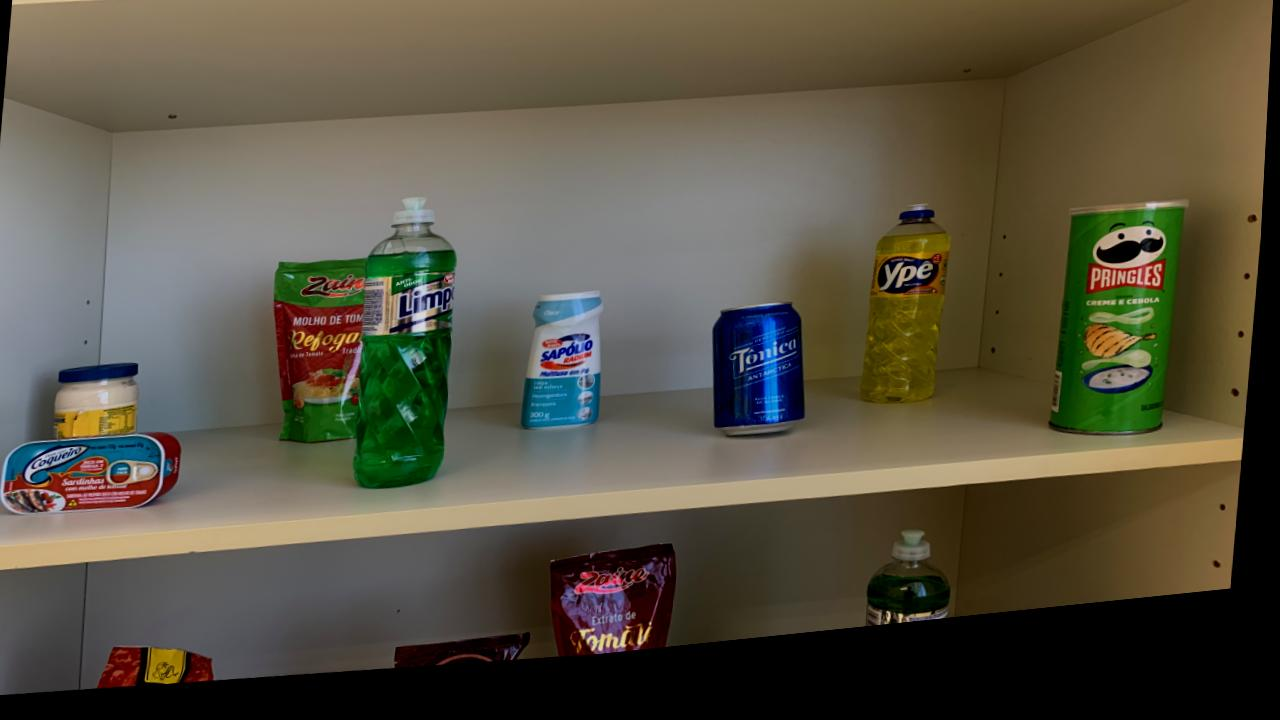Cleaner-Cleanup_Items: (526, 305, 607, 442)
Coffee-Pantry_Items: (402, 645, 538, 678)
Detergent-Cleanup_Items: (359, 207, 460, 497), (866, 226, 955, 424), (873, 550, 958, 646)
Mayonnaise-Pantry_Items: (58, 366, 144, 440)
Pringles-Snacks: (1055, 227, 1191, 460)
Tomato_Sauce-Pantry_Items: (277, 267, 370, 450), (558, 560, 684, 670), (104, 649, 222, 691)
Tonic-Drinks: (716, 320, 811, 452)
Tuna_Can-Pantry_Items: (4, 436, 187, 516)
